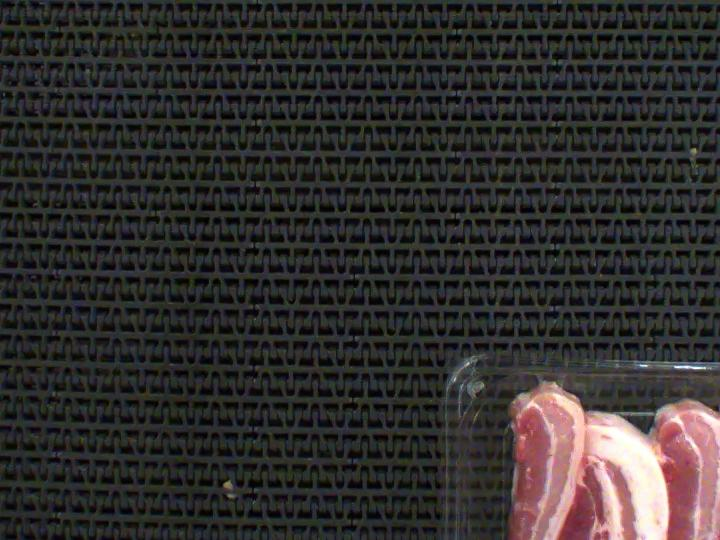packaging-error: (531, 367, 574, 394)
